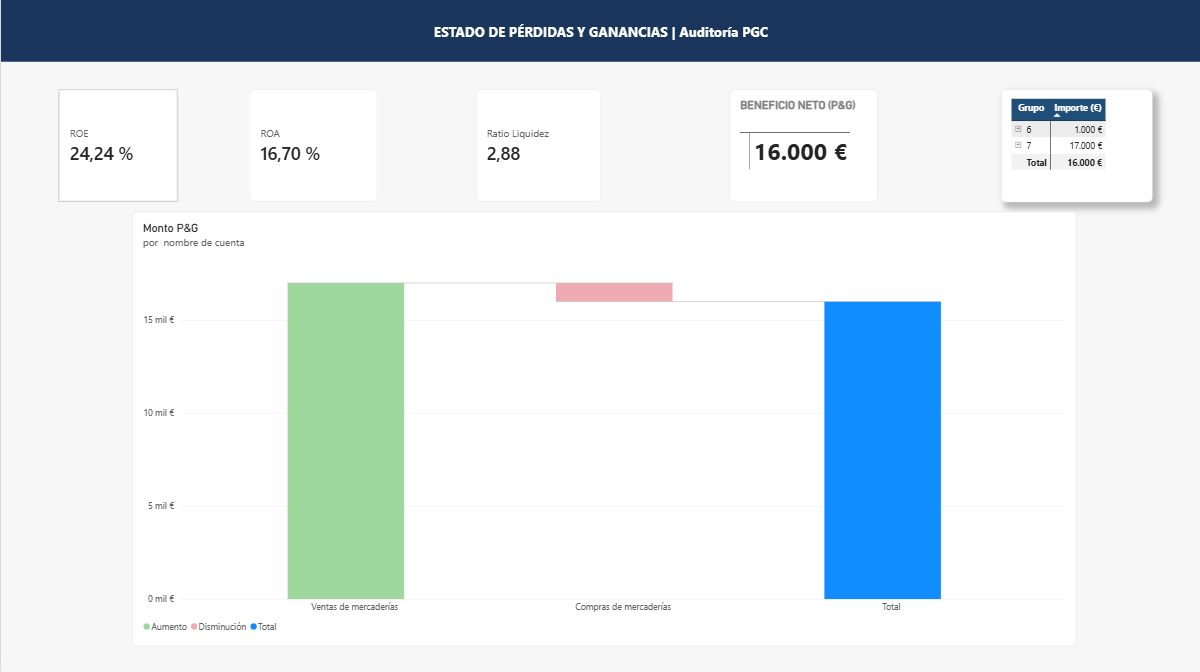

The page's visual inventory and layout, read from the dashboard file:
{"tool":"powerbi","page":{"name":"Auditoria PGC","canvas":[1920,1080],"ordinal":0},"visuals":[{"type":"pivotTable","title":"BENEFICIO NETO (P&G)","fields":{"Values":["_Medidas.Resultado del Ejercicio"]},"box":[41.6,808.9,236.7,224.4],"z":0},{"type":"pivotTable","fields":{"Rows":["public cuentas_pgc.grupo","public cuentas_pgc.subgrupo","public cuentas_pgc.nombre_cuenta"],"Values":["_Medidas.Monto P&G"]},"box":[296.8,709.4,506.1,324.5],"z":1000},{"type":"waterfallChart","fields":{"Category":["public cuentas_pgc.nombre_cuenta"],"Y":["_Medidas.Monto P&G"]},"box":[877.7,521.2,1042.4,526.6],"z":2000},{"type":"textbox","box":[0,2,1920.4,100],"z":3000},{"type":"cardVisual","fields":{"Data":["_Medidas.ROE"]},"box":[41.6,146.6,191.8,133.9],"z":3002},{"type":"cardVisual","fields":{"Data":["_Medidas.ROA"]},"box":[278.7,146.6,204.5,133.9],"z":3003},{"type":"cardVisual","fields":{"Data":["_Medidas.Ratio Liquidez"]},"box":[550.1,146.6,200.9,133.9],"z":3004}]}

Visuals, with their boxes in screenshot pixels (x1, y1, x2, y2), scaled from the page's 1920x1080 canvas onto the 1200x672 screenshot:
"BENEFICIO NETO (P&G)" pivotTable: left=26, top=503, right=174, bottom=643
pivotTable - public cuentas_pgc.grupo x public cuentas_pgc.subgrupo: left=186, top=441, right=502, bottom=643
waterfallChart - public cuentas_pgc.nombre_cuenta x _Medidas.Monto P&G: left=549, top=324, right=1199, bottom=652
textbox: left=0, top=1, right=1199, bottom=63
cardVisual - _Medidas.ROE: left=26, top=91, right=146, bottom=175
cardVisual - _Medidas.ROA: left=174, top=91, right=302, bottom=175
cardVisual - _Medidas.Ratio Liquidez: left=344, top=91, right=469, bottom=175
